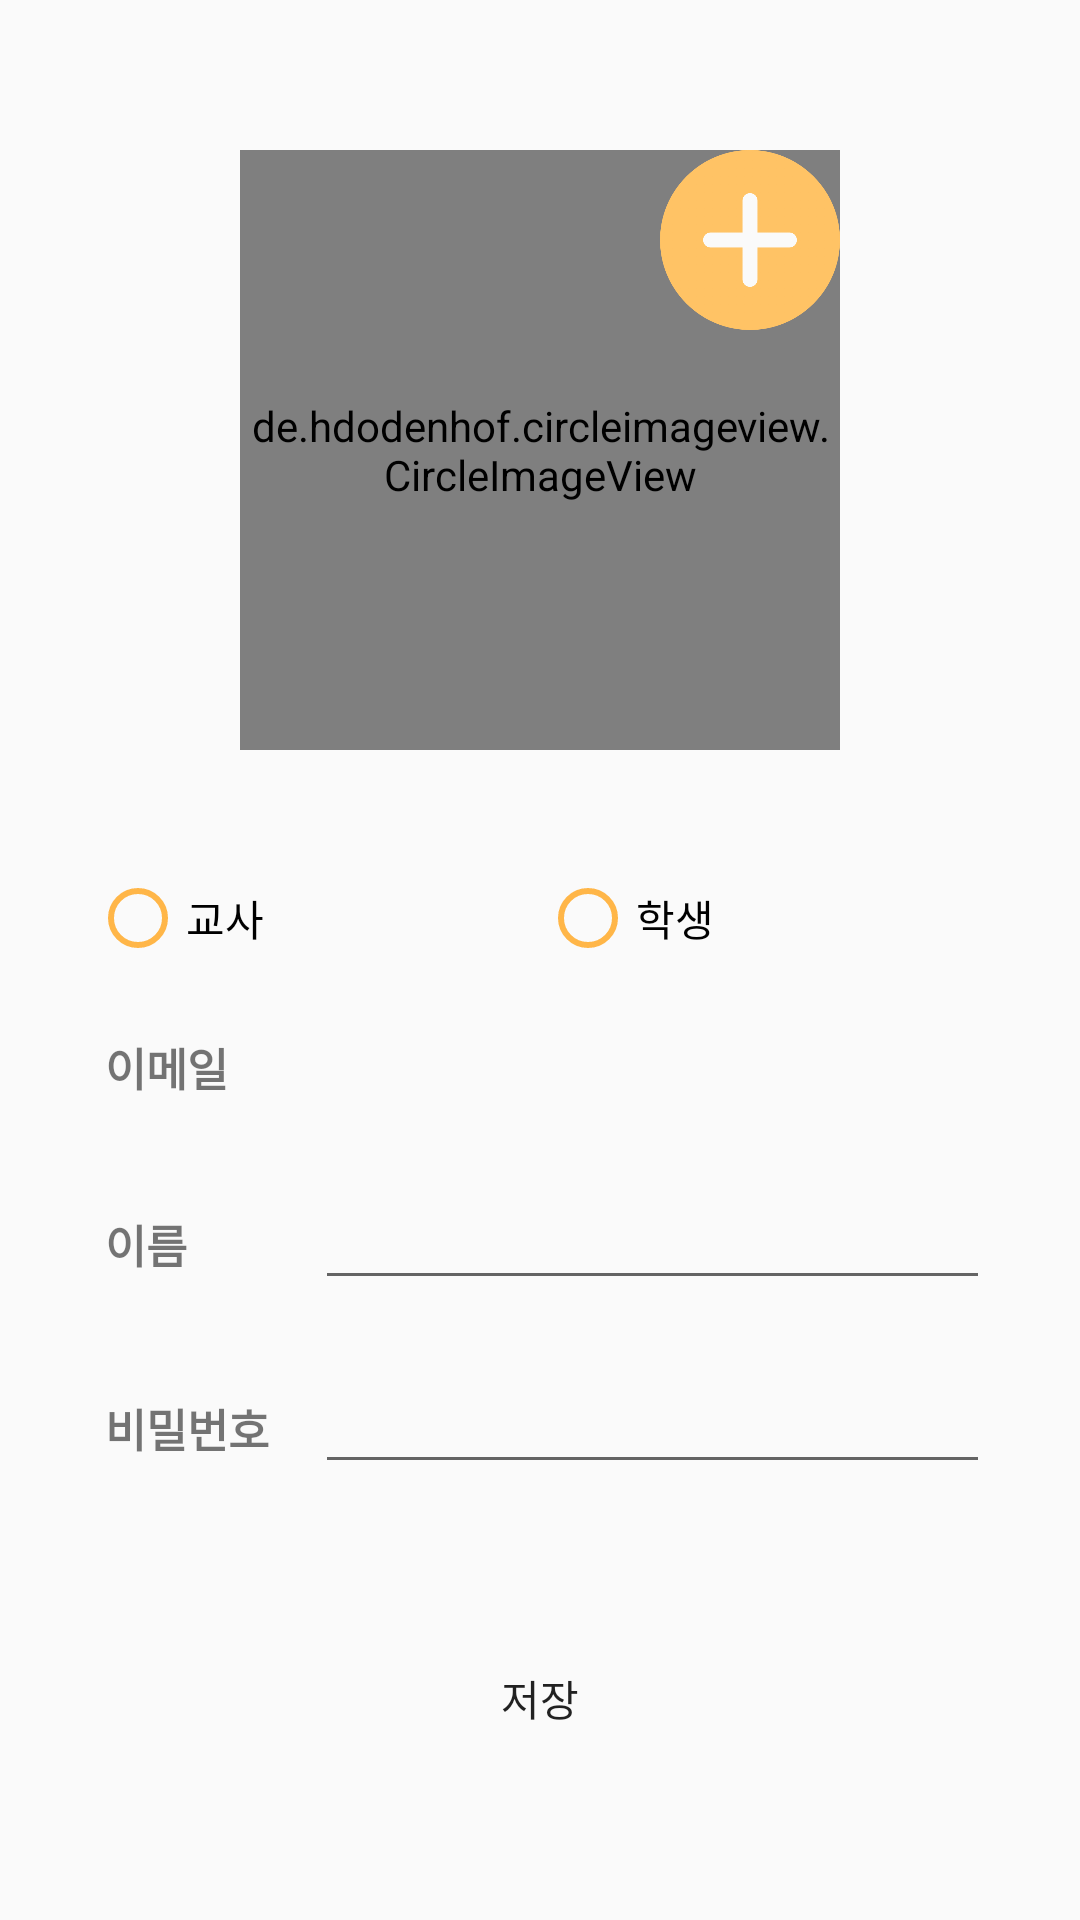

Icons on this 1080 x 1920 Android screen, each with the point to tap as [x,y]:
plus: [750,240]
